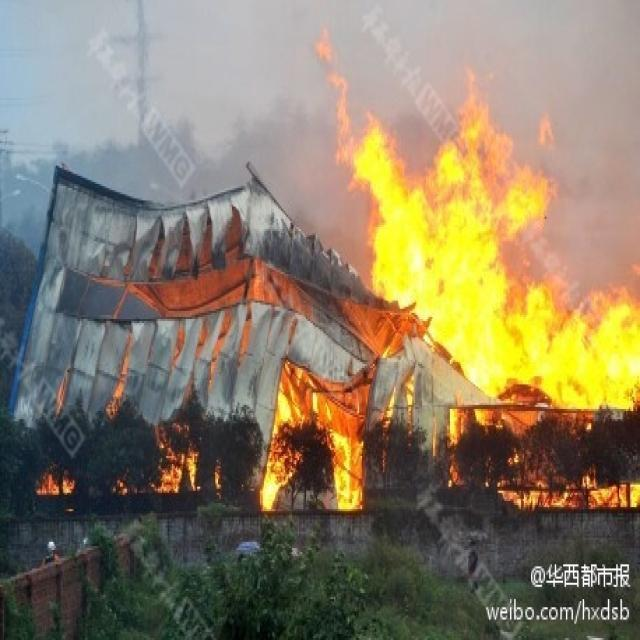Fire: (255, 20, 640, 511), (148, 421, 204, 493), (38, 470, 77, 493), (109, 474, 130, 497), (212, 460, 222, 490)
Smoke: (1, 2, 640, 276)
